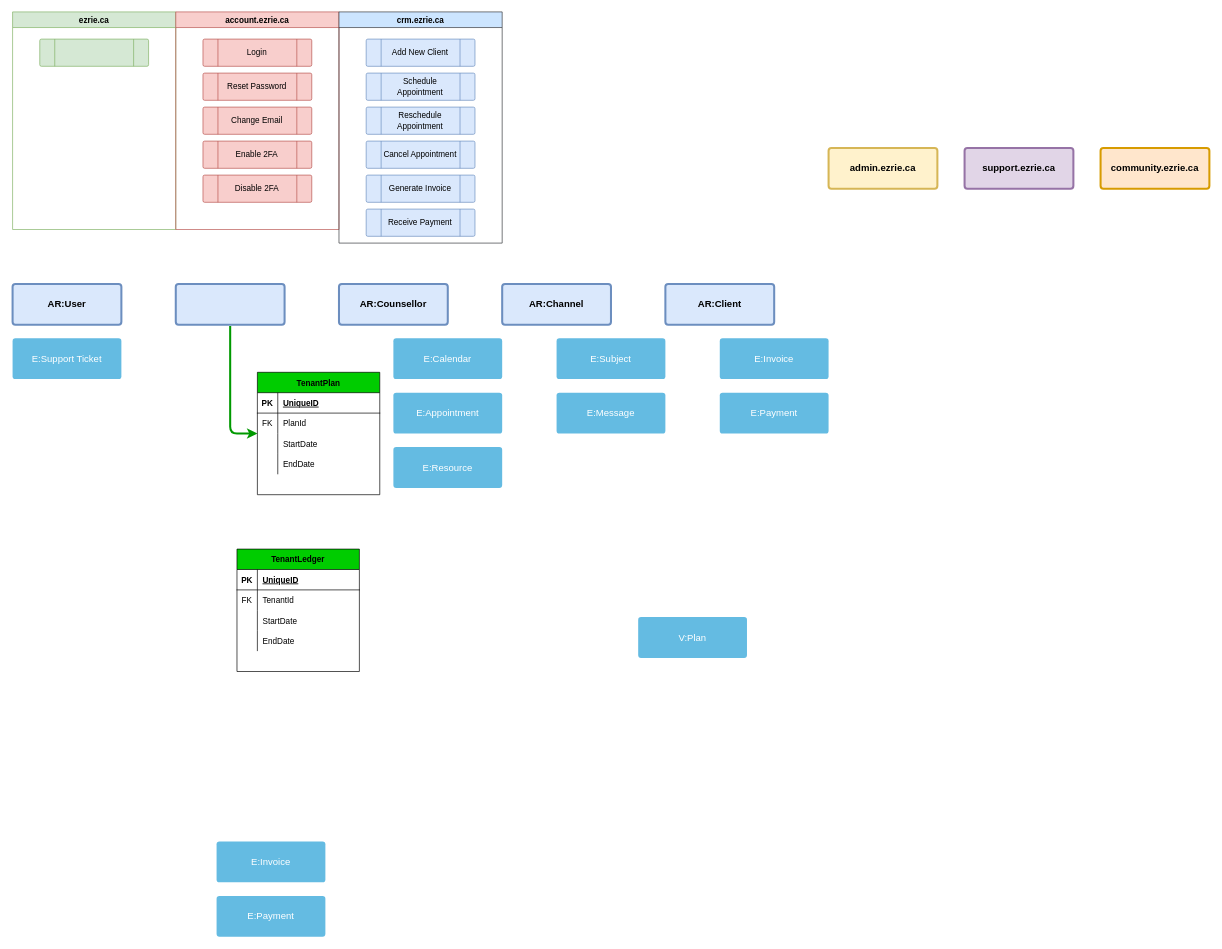
The diagram is 1222 pixels wide and 949 high, and some of its shapes have lost their labels. Here are the shapes that lost their labels. From the top down, the centre of each, then its label:
At point (94, 52): "Register".
At point (229, 304): "AR:Tenant".
